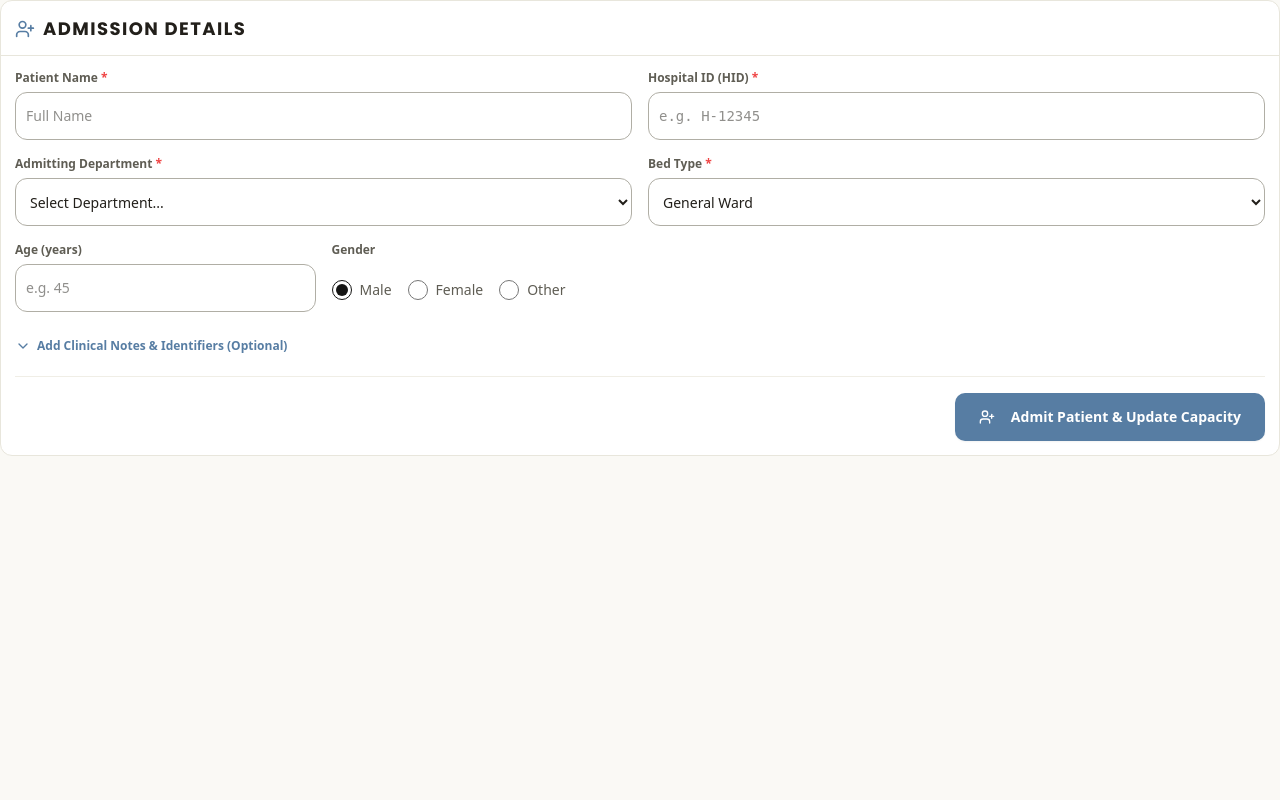
Test: DirectAdmissionForm › validates required fields before submitting
Step 1. Click the button "Admit Patient & Update Capacity" → [1110, 417], box [955, 393, 1265, 441]
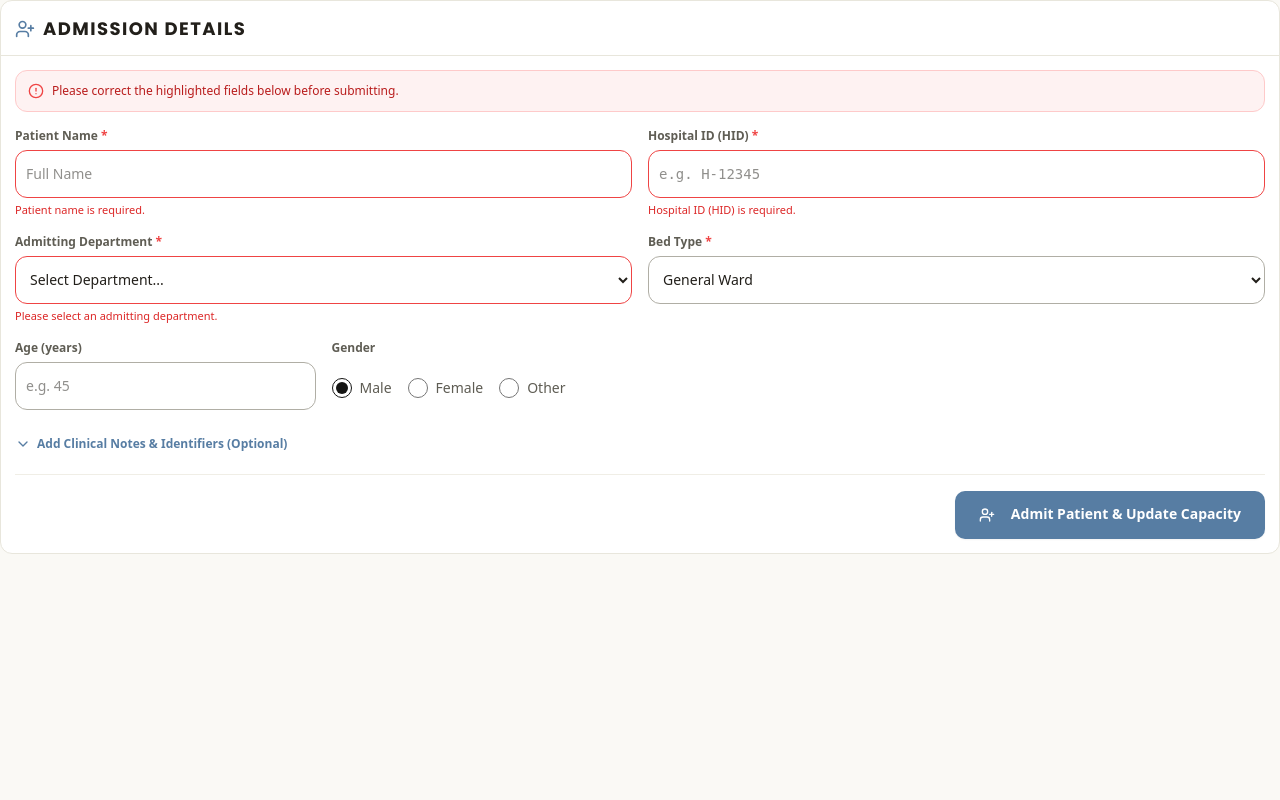
Now the message "Please correct the highlighted fields below before submitting." is shown, box [15, 70, 1265, 112]
Now the text "Patient name is required." is shown, box [15, 202, 145, 217]
Now the text "Hospital ID (HID) is required." is shown, box [648, 202, 796, 217]
